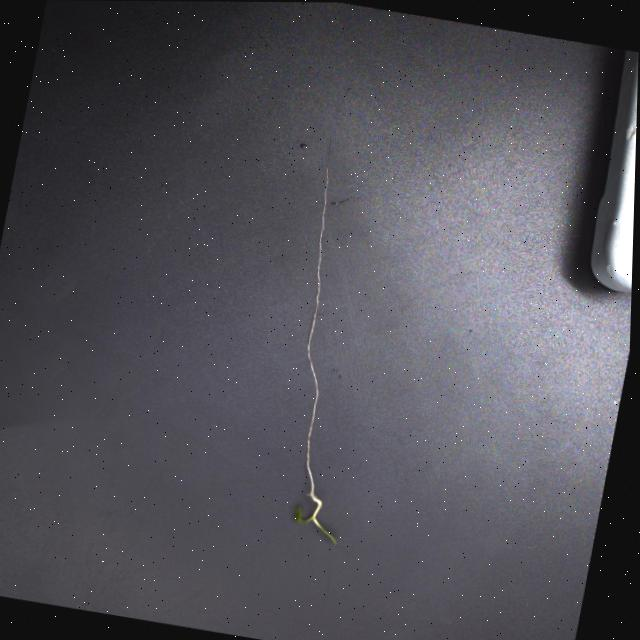leaf: (295, 506, 313, 523), (322, 527, 337, 544)
root: (307, 165, 329, 493)
stem: (309, 493, 324, 528)
